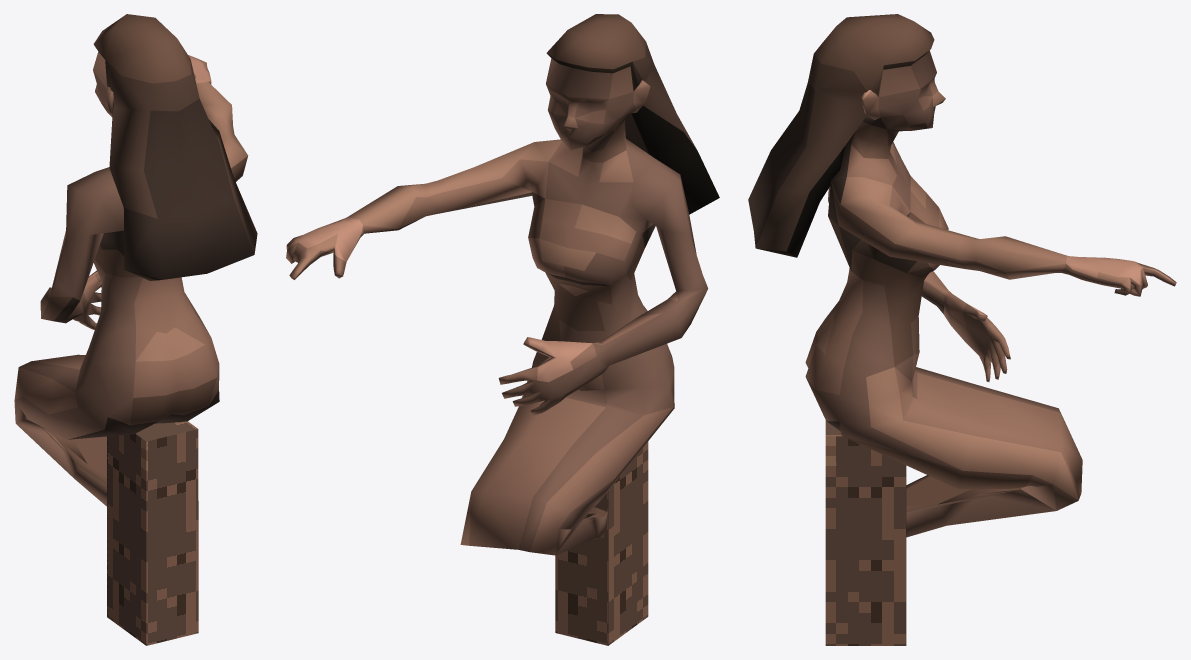
The model's file is ship_figure_head_02.gltf.
3 views of the same model, side by side, from view 1: azimuth 30°, elevation 25°; view 2: azimuth 150°, elevation 25°; view 3: azimuth 270°, elevation 25° (orthographic). The views are drawn at different scales.
Visible parts, largest first — view 1: ship_figure_head_02; view 2: ship_figure_head_02; view 3: ship_figure_head_02.
Part boxes in pixels (<box>): ship_figure_head_02: <box>14,14,257,645</box>; ship_figure_head_02: <box>286,14,719,645</box>; ship_figure_head_02: <box>748,14,1176,645</box>.
Bounding box in the file's own units: 3.38 × 6.77 × 4.29.
Materials: 1 (1 with a texture image).
